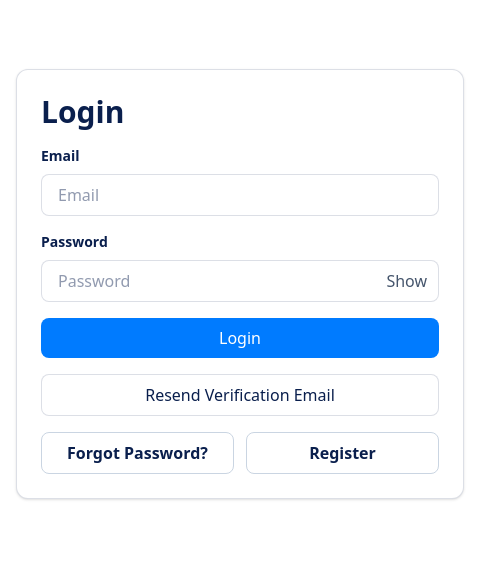
LoginPage › shows an error when password is empty
The width and height of the screenshot is (481, 570).
Type "sean@example.com" into the field labelled "Email". click: (240, 195)
box: [41, 174, 439, 216]
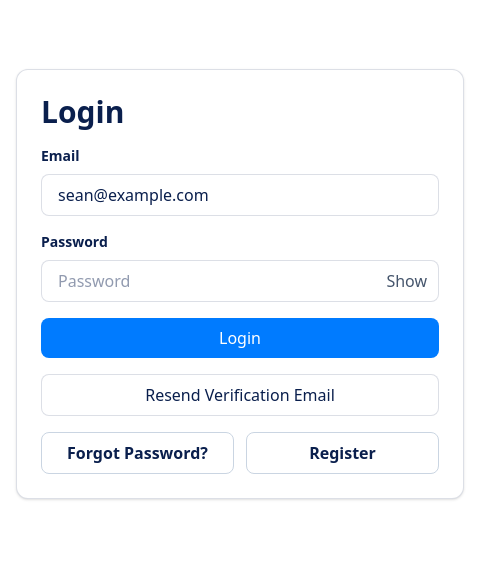
Click the button "Login". click: (240, 338)
box: [41, 318, 439, 358]
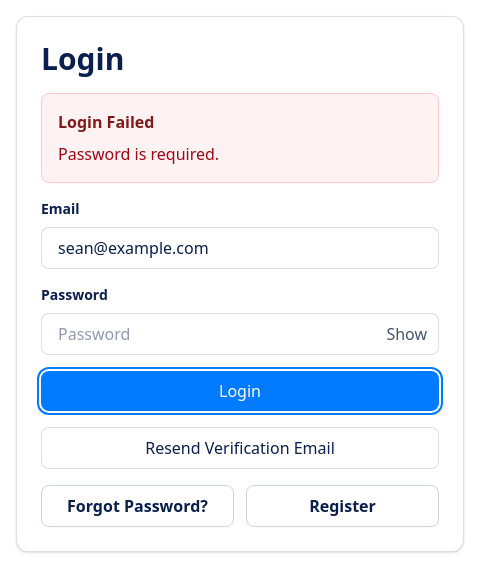
Expected: the text "Password is required." is shown, [58, 143, 219, 165]
